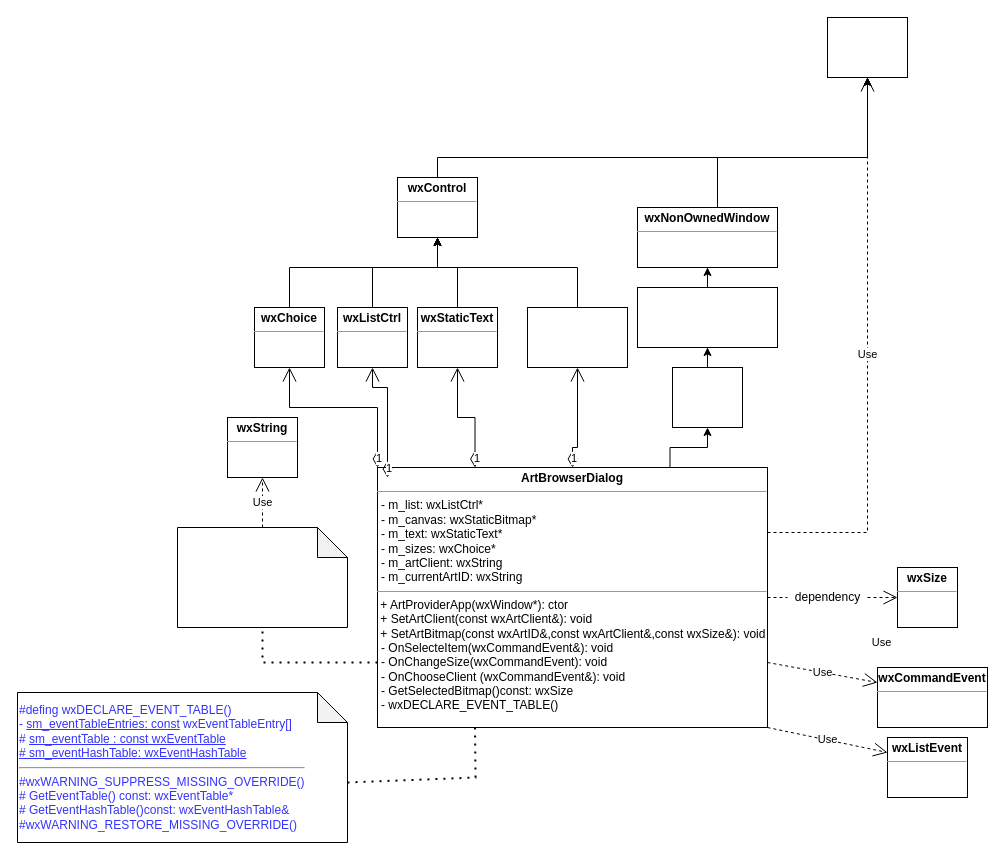
This 1005x860 diagram has some shape labels left out. The centre of each missing label's shape, as x and y in pixels:
using wxArtID = wxString using wxArtClient = wxString: the point at 262,577
wxDialog: the point at 707,397
wxStaticBitmap: the point at 577,337
wxTopLevelWindow: the point at 707,317
wxWindow: the point at 867,47
